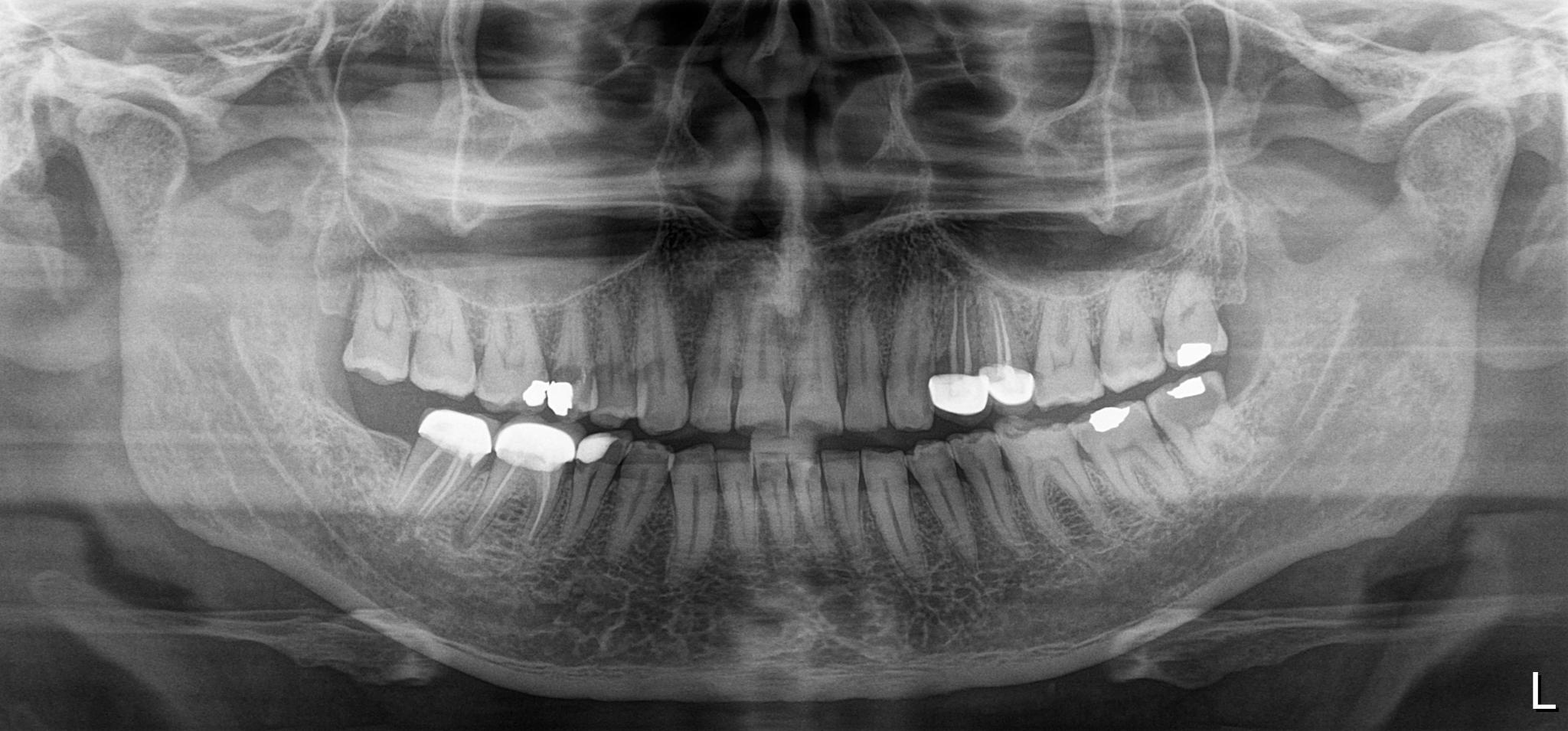Endodontically Treated Tooth: (496, 402, 564, 555), (419, 406, 486, 541), (934, 291, 978, 412)
Missing Tooth: (325, 392, 416, 513), (302, 241, 358, 383)
